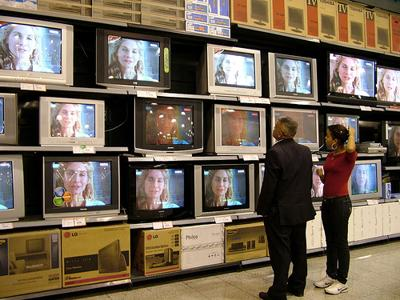person: (255, 116, 318, 300)
